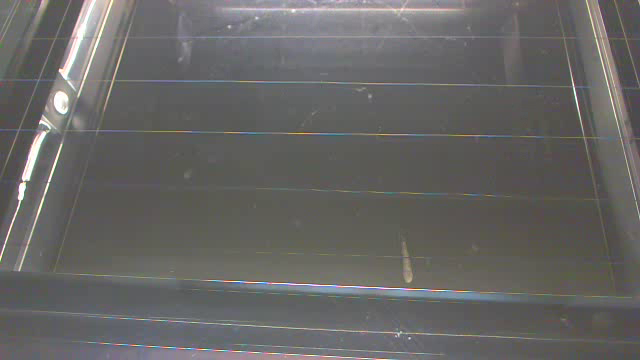alpha: (400, 236, 413, 282)
